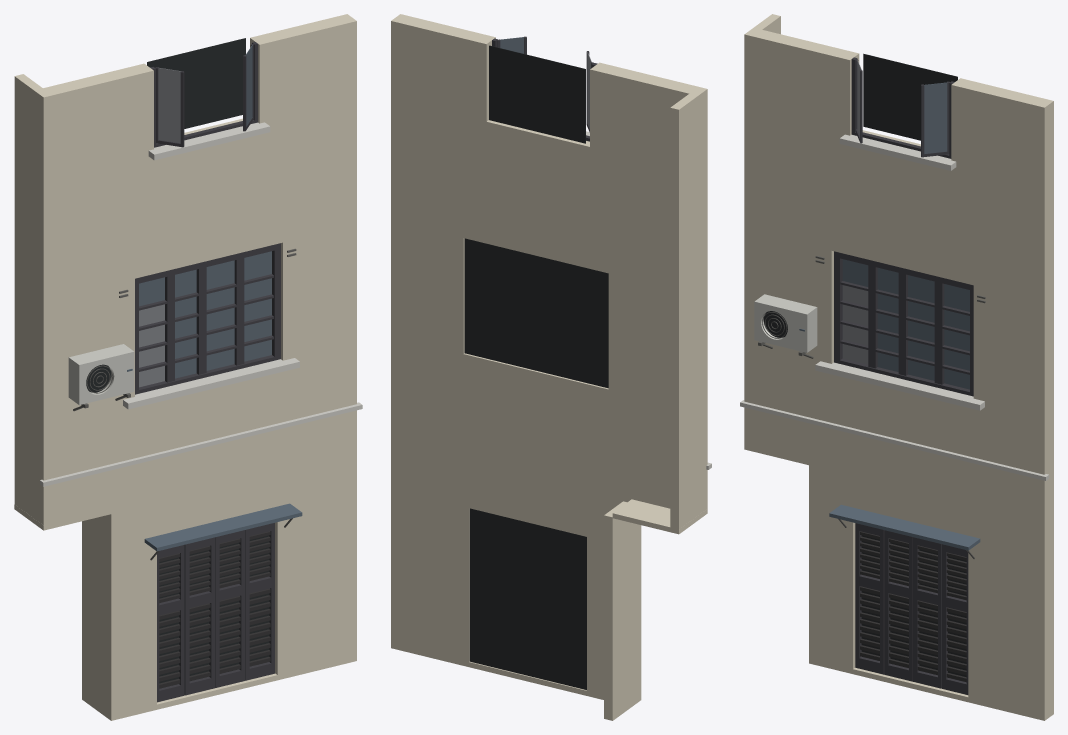
The model's file is full-source.glb.
The picture shows the model from 3 angles, left to right: view 1: azimuth 30°, elevation 25°; view 2: azimuth 150°, elevation 25°; view 3: azimuth 330°, elevation 25°; orthographic projection. The views are drawn at different scales.
Visible parts, largest first — view 1: 襄阳南路313号修缮后住宅院面; view 2: 襄阳南路313号修缮后住宅院面; view 3: 襄阳南路313号修缮后住宅院面.
Part boxes in pixels (x1,y1,x2,y2): 襄阳南路313号修缮后住宅院面: [14, 14, 362, 720]; 襄阳南路313号修缮后住宅院面: [391, 14, 711, 720]; 襄阳南路313号修缮后住宅院面: [740, 14, 1053, 720].
Bounding box in the file's own units: 4.11 × 7.88 × 0.955.
